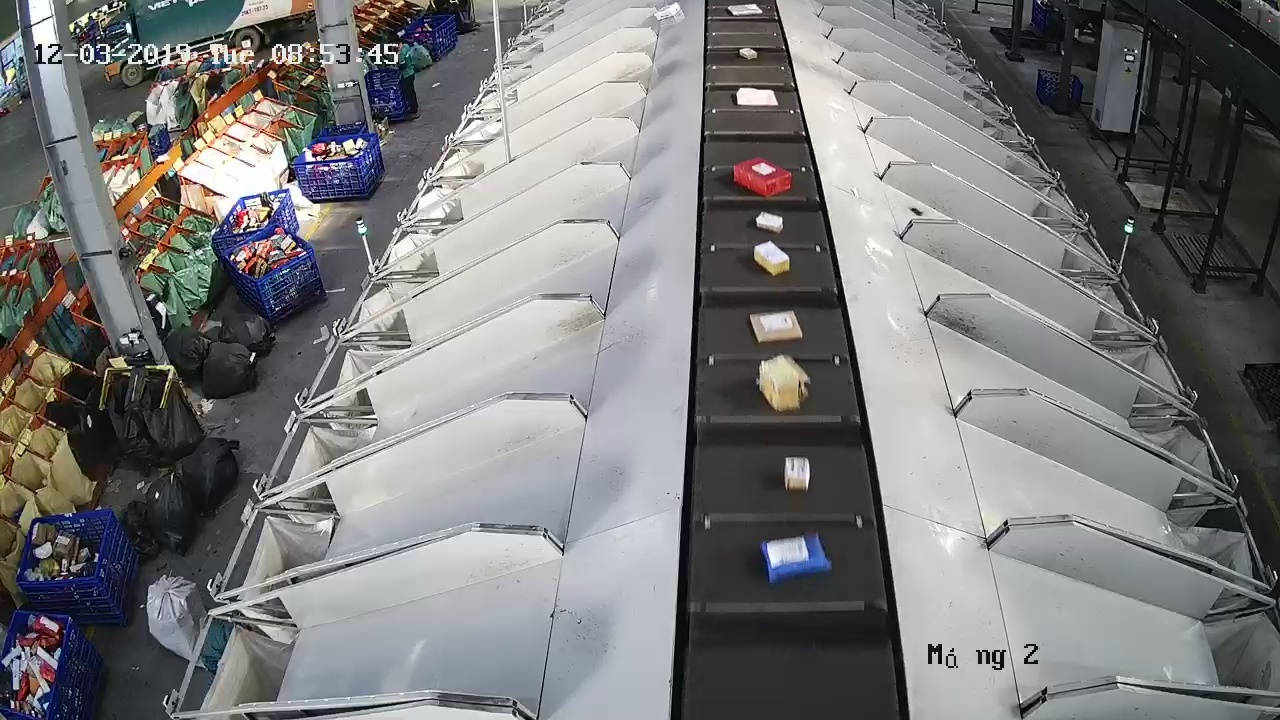parcel: (758, 530, 833, 586), (757, 352, 813, 414), (731, 155, 793, 198), (748, 308, 804, 344), (752, 240, 792, 278), (782, 454, 812, 494), (754, 209, 785, 235), (909, 204, 926, 218)
